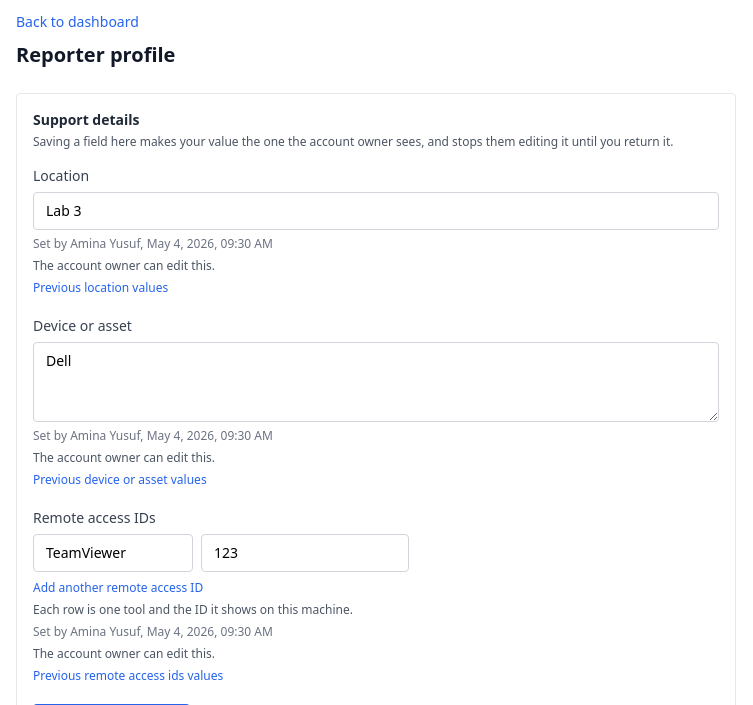
Test: UserProfilePage › UP-011: field history is fetched on demand and shown newest first
Expected: the field showing "Lab 3" is shown, [33,192,719,230]
Step 1. Click the button "Previous location values" → (101, 288), box [33,280,168,296]
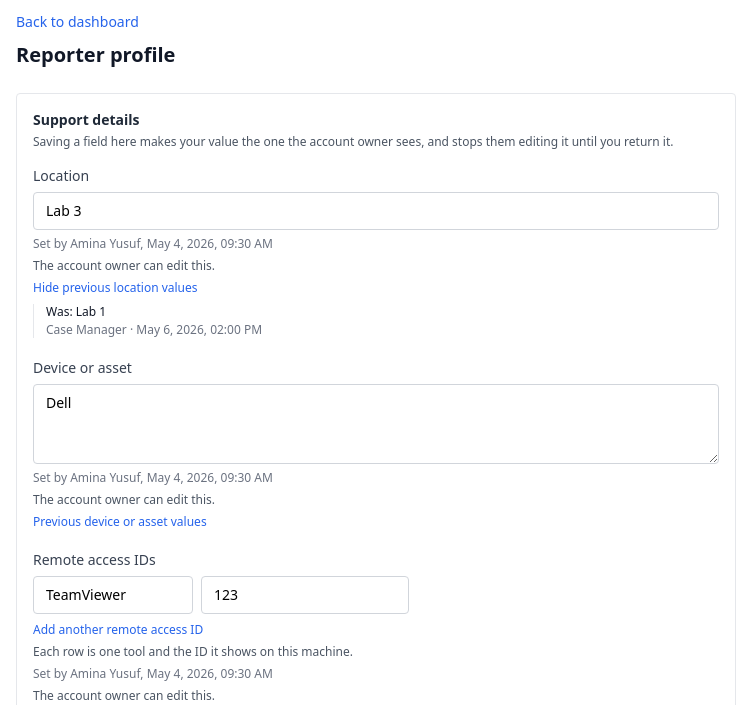
Expected: the text "Was: Lab 1" is shown, [46,303,106,320]
